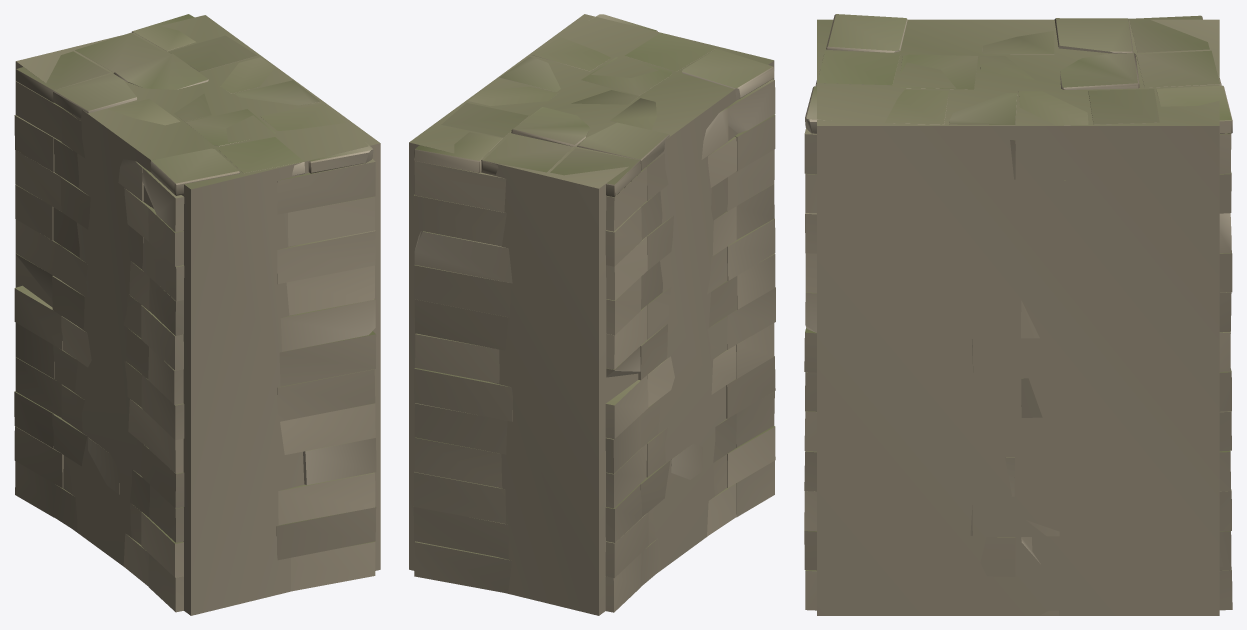
File: theatre_rim.glb
The picture shows the model from 3 angles, left to right: view 1: azimuth 30°, elevation 25°; view 2: azimuth 150°, elevation 25°; view 3: azimuth 270°, elevation 25°; orthographic projection. The views are drawn at different scales.
Visible parts, largest first — view 1: theatre_rim, theatre_rim_far; view 2: theatre_rim, theatre_rim_far; view 3: theatre_rim_far, theatre_rim.
Part boxes in pixels (bbox=[...]): theatre_rim: bbox=[14, 14, 376, 612]; theatre_rim_far: bbox=[15, 15, 380, 615]; theatre_rim: bbox=[413, 14, 775, 612]; theatre_rim_far: bbox=[409, 14, 774, 615]; theatre_rim_far: bbox=[817, 19, 1219, 615]; theatre_rim: bbox=[804, 14, 1232, 615].
Size of the model in its own units: 11.98 by 24.74 by 19.42.
